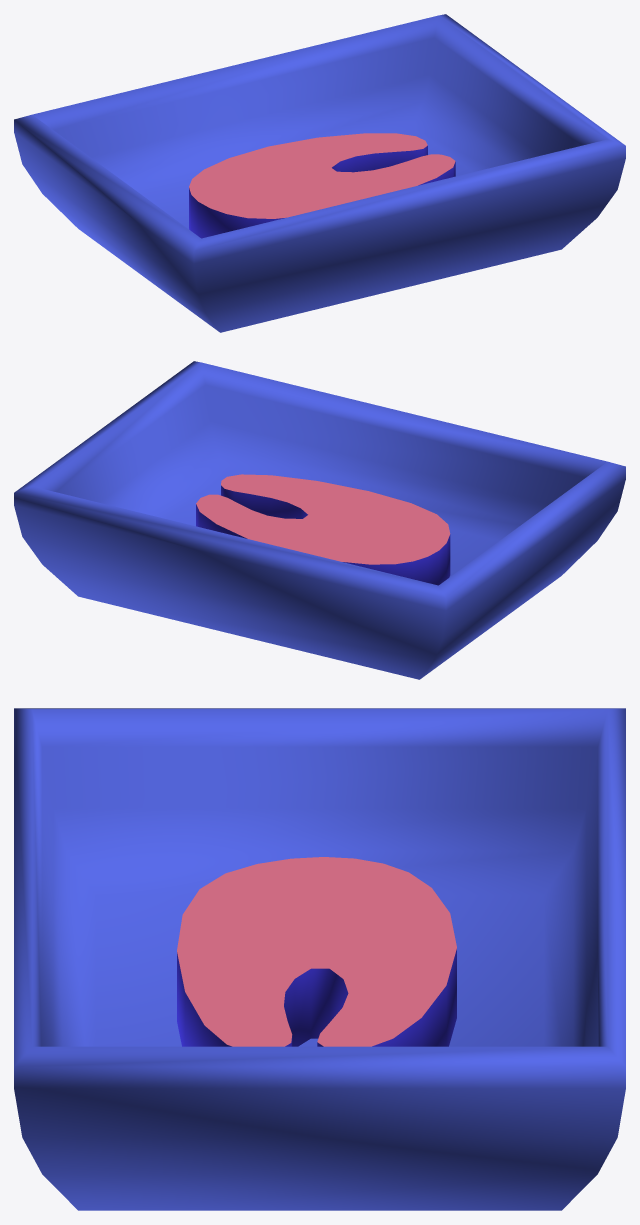
File: salmone.fbx
3 views of the same model, one above another, from view 1: azimuth 30°, elevation 25°; view 2: azimuth 150°, elevation 25°; view 3: azimuth 270°, elevation 25° (orthographic). The views are drawn at different scales.
Visible parts, largest first — view 1: salmone; view 2: salmone; view 3: salmone.
Boxes of the visible parts, bbox=[...] form: salmone: bbox=[14, 14, 625, 332]; salmone: bbox=[14, 361, 625, 679]; salmone: bbox=[14, 708, 625, 1210].
Size of the model in its own units: 239 by 59.19 by 172.
